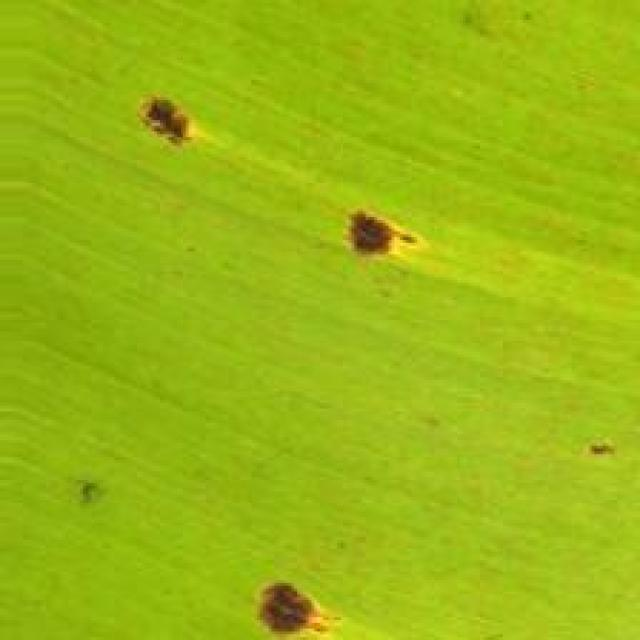Bacterial_spot: (242, 556, 354, 640), (332, 188, 430, 283), (128, 73, 208, 166), (569, 426, 628, 479), (64, 468, 114, 518)
